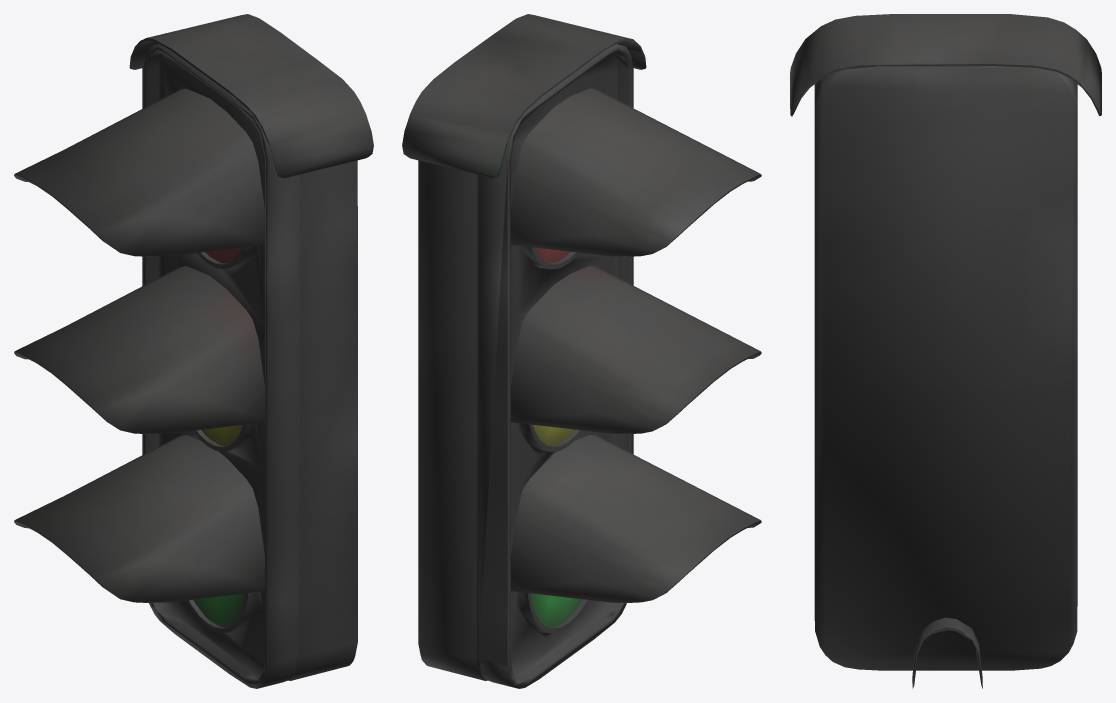
The model's file is traffic_light.glb.
3 renders of one model, left to right at view 1: azimuth 30°, elevation 25°; view 2: azimuth 150°, elevation 25°; view 3: azimuth 270°, elevation 25°, orthographic. The views are drawn at different scales.
Visible parts, largest first — view 1: Cube.002__0; view 2: Cube.002__0; view 3: Cube.002__0.
Part boxes in pixels (x1=…): Cube.002__0: x1=14, y1=14, x2=373, y2=688; Cube.002__0: x1=402, y1=14, x2=761, y2=688; Cube.002__0: x1=790, y1=14, x2=1101, y2=688.
Bounding box in the file's own units: 0.3376 × 0.6961 × 0.3199.
Materials: 1 (1 with a texture image).
